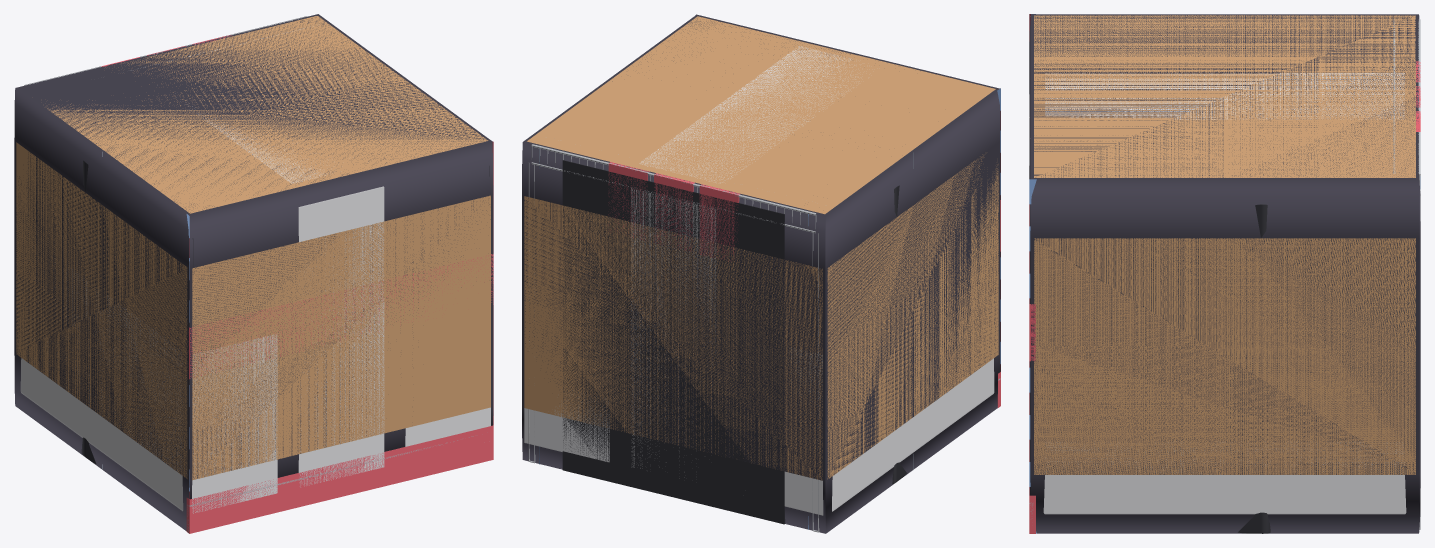
The picture shows the model from 3 angles, left to right: view 1: azimuth 30°, elevation 25°; view 2: azimuth 150°, elevation 25°; view 3: azimuth 270°, elevation 25°; orthographic projection. The views are drawn at different scales.
Visible parts, largest first — view 1: pd_bronze, pd_deck, pd_white, pd_led, pd_truss; view 2: pd_bronze, pd_deck, pd_frame, pd_white, pd_led, pd_truss; view 3: pd_bronze, pd_deck, pd_white, pd_led, pd_truss, pd_frame.
Part boxes in pixels (x1,y1,x2,y2): pd_bronze: [16, 16, 490, 480]; pd_deck: [14, 14, 493, 530]; pd_white: [20, 106, 490, 513]; pd_led: [101, 35, 493, 533]; pd_truss: [24, 16, 473, 532]; pd_bronze: [524, 16, 998, 480]; pd_deck: [522, 14, 1000, 533]; pd_frame: [562, 160, 906, 524]; pd_white: [524, 46, 994, 515]; pd_led: [608, 162, 1000, 407]; pd_truss: [528, 144, 1000, 532]; pd_bronze: [1034, 15, 1415, 474]; pd_deck: [1029, 14, 1420, 533]; pd_white: [1029, 73, 1420, 514]; pd_led: [1029, 61, 1420, 533]; pd_truss: [1029, 19, 1420, 529]; pd_frame: [1029, 42, 1270, 533].
Size of the model in its own units: 65534 by 65534 by 65534.
